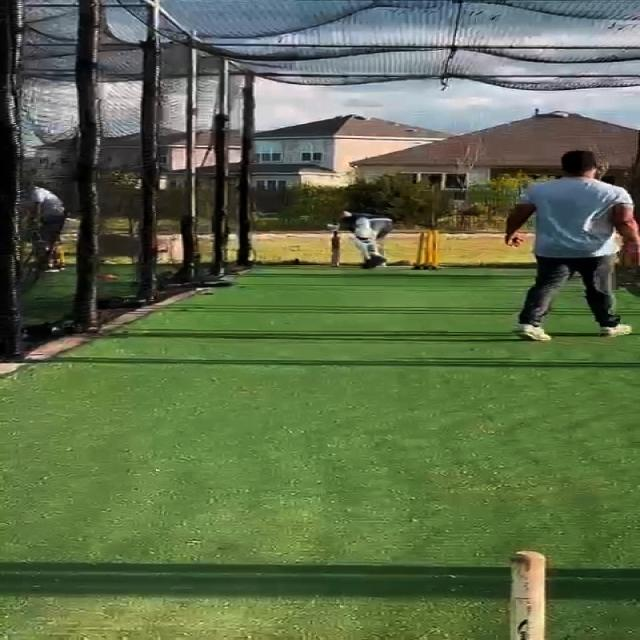batsman: (325, 208, 396, 271)
